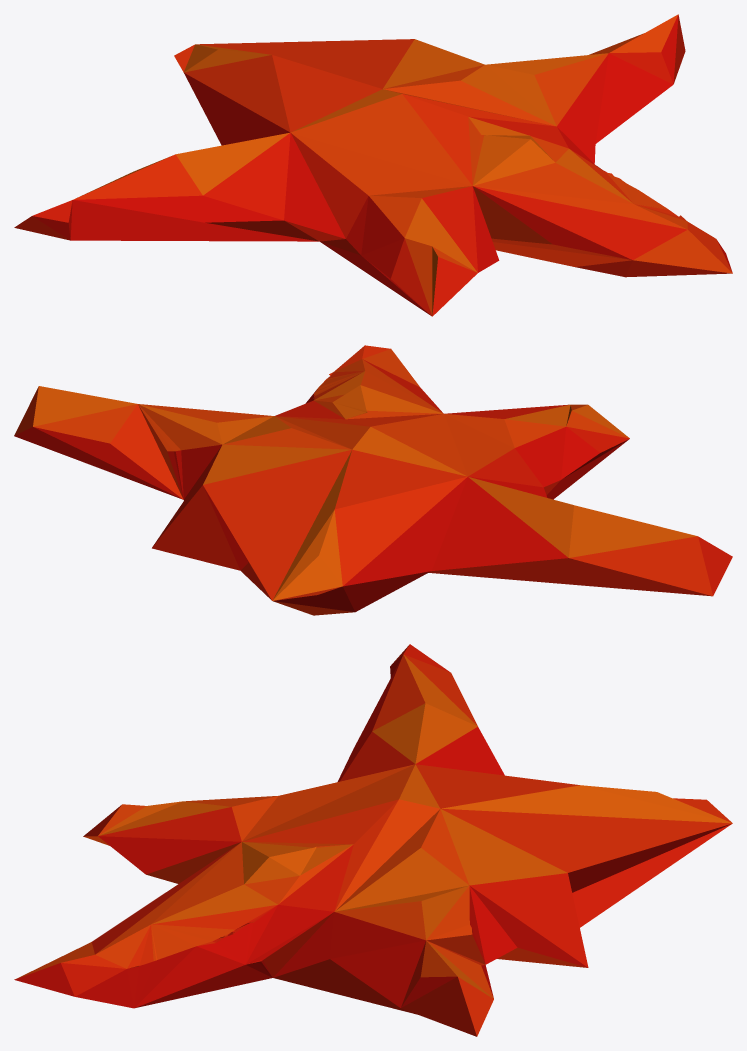
File: starfish-b.glb
3 views of the same model, one above another, from view 1: azimuth 30°, elevation 25°; view 2: azimuth 150°, elevation 25°; view 3: azimuth 270°, elevation 25° (orthographic). The views are drawn at different scales.
Visible parts, largest first — view 1: starfish-b; view 2: starfish-b; view 3: starfish-b.
Part boxes in pixels (left/top/right/bottom): starfish-b: left=14, top=14, right=732, bottom=316; starfish-b: left=14, top=345, right=732, bottom=615; starfish-b: left=14, top=644, right=732, bottom=1036.
Size of the model in its own units: 0.2189 by 0.0421 by 0.1817.
